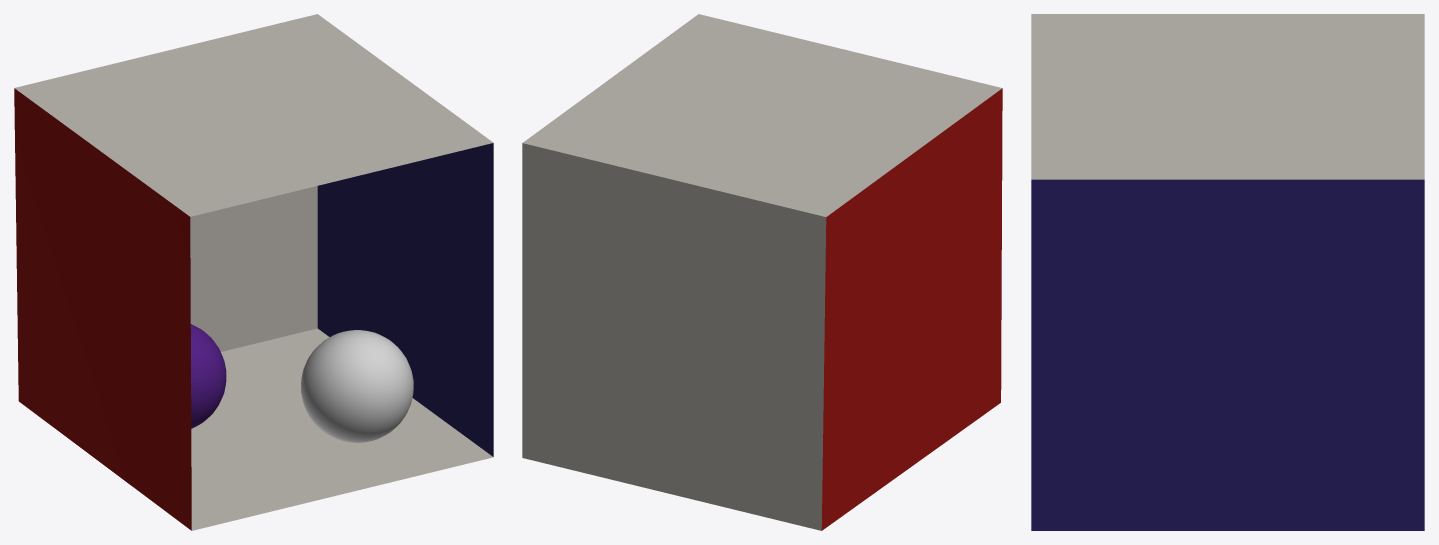
The picture shows the model from 3 angles, left to right: view 1: azimuth 30°, elevation 25°; view 2: azimuth 150°, elevation 25°; view 3: azimuth 270°, elevation 25°; orthographic projection. The views are drawn at different scales.
Visible parts, largest first — view 1: leftWall, ceiling, rightWall, floor, backWall, rightSphere, leftSphere; view 2: backWall, leftWall, ceiling; view 3: rightWall, ceiling.
Part boxes in pixels (x1,y1,x2,y2): leftWall: [14, 88, 191, 530]; ceiling: [14, 14, 493, 216]; rightWall: [317, 143, 493, 456]; floor: [191, 328, 493, 530]; backWall: [190, 186, 317, 351]; rightSphere: [301, 330, 413, 442]; leftSphere: [190, 324, 226, 428]; backWall: [522, 143, 826, 530]; leftWall: [821, 88, 1002, 530]; ceiling: [523, 14, 1002, 216]; rightWall: [1031, 179, 1424, 530]; ceiling: [1031, 14, 1424, 179].
Size of the model in its own units: 2.02 by 2 by 2.03.
